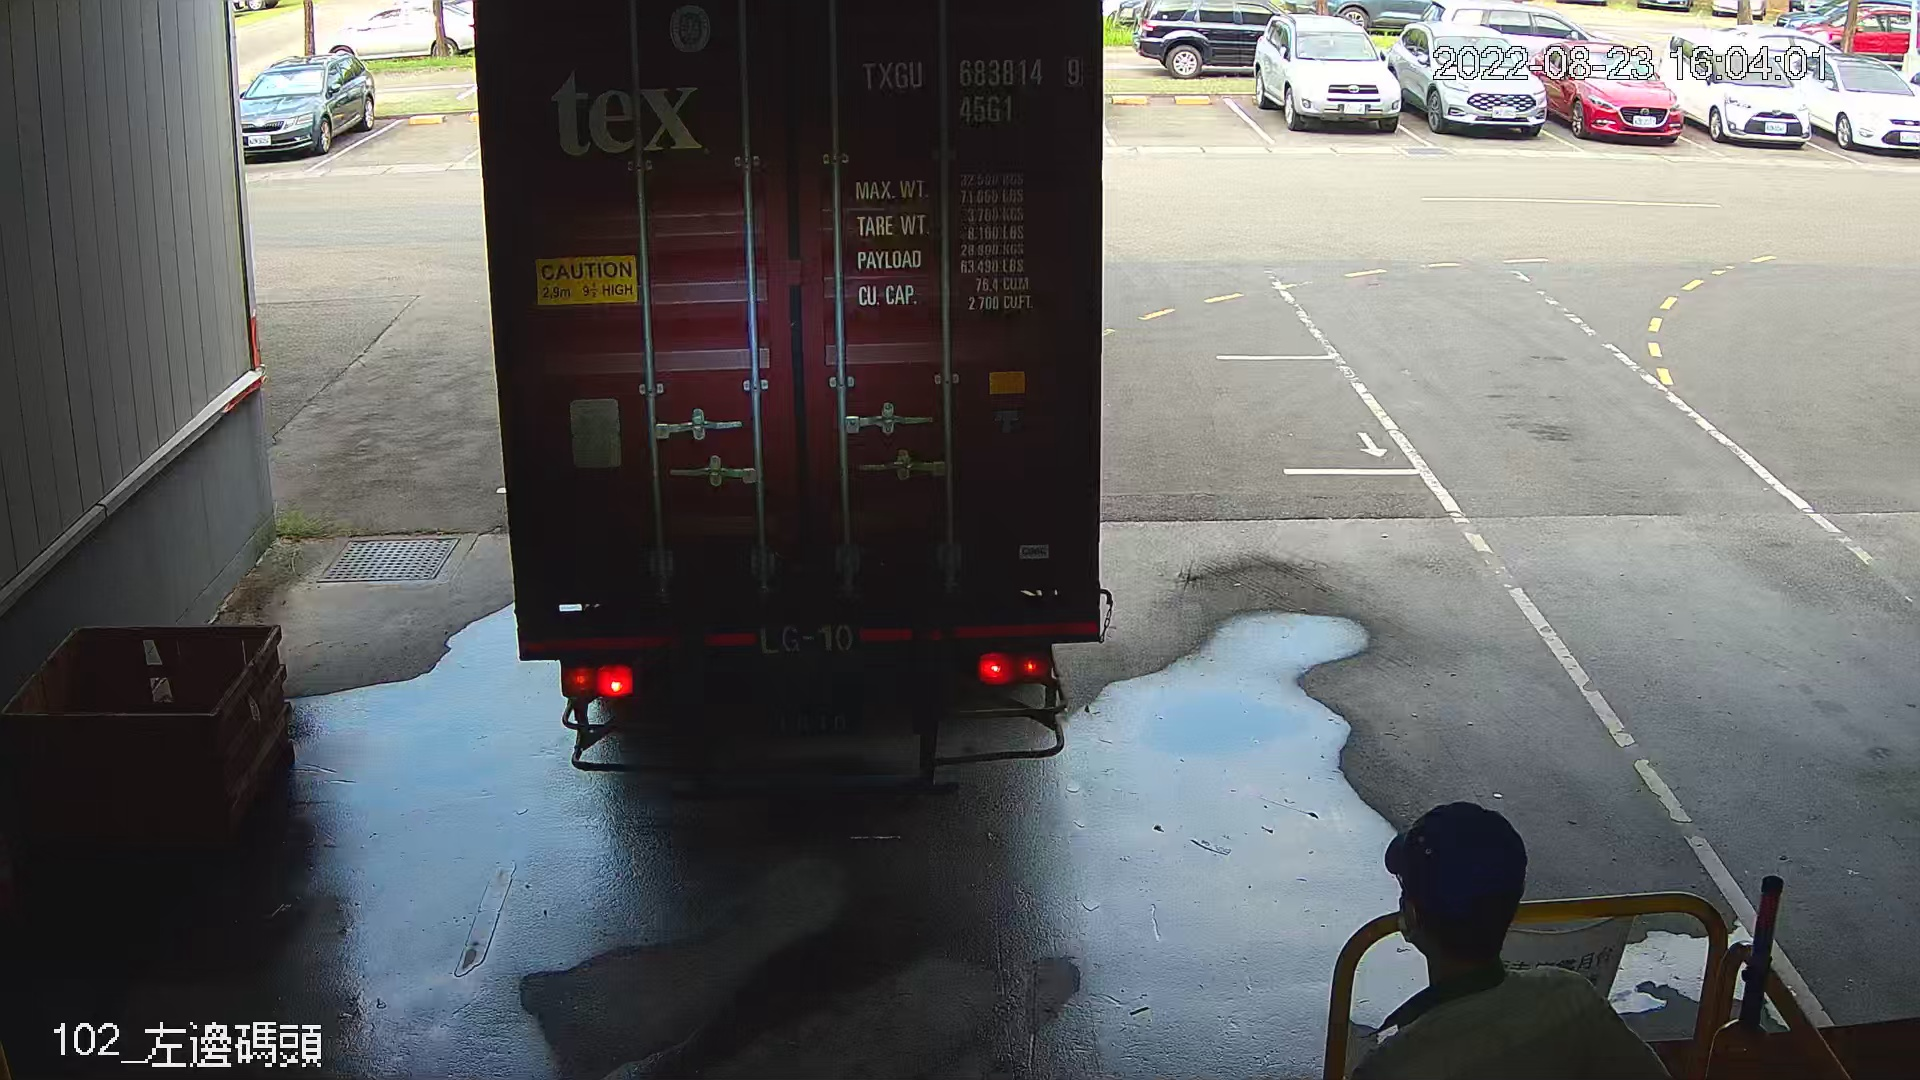container: (855, 47, 1095, 133)
